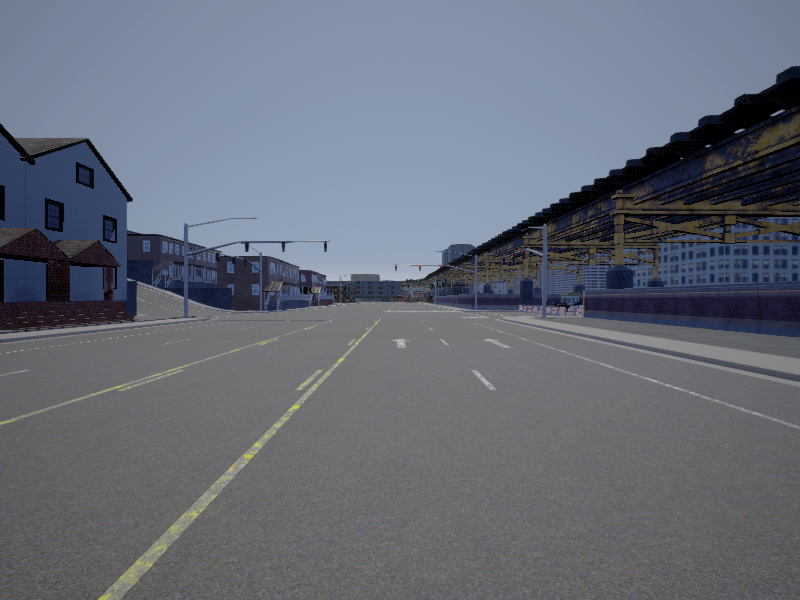Attacker: (395, 294, 404, 300)
